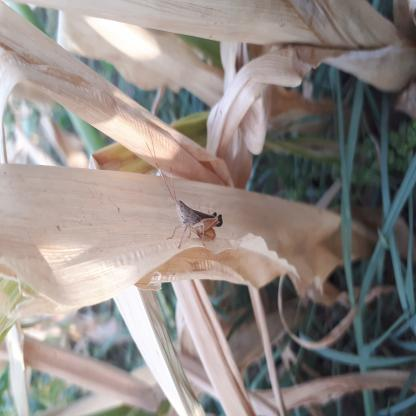grasshopper: (96, 281, 145, 401)
